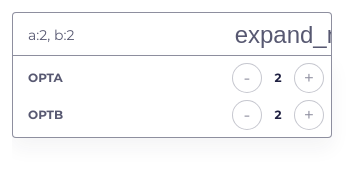
Scenario: Dropdown › decrement and increment behavior (hasControls = false) › should update displayedValue immediately on option increment or decrement
The image size is (349, 172).
Click the button named "decrease optA": click(247, 78) [232,63,262,93]
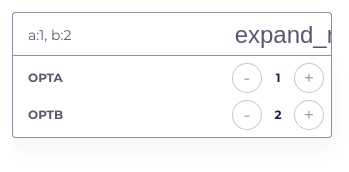
Check: the text with test id "display-value" reads "a:1, b:2", box [28,26,71,44]
Click the button named "increase optB": click(309, 115) [294,100,324,130]
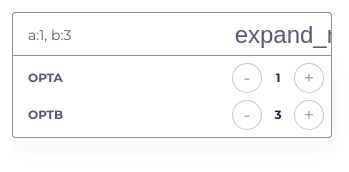
Check: the text with test id "display-value" reads "a:1, b:3", box [28,26,71,44]
